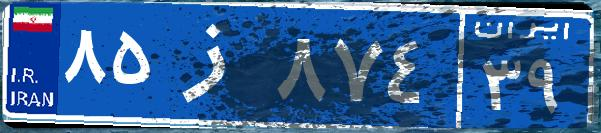3: (475, 38, 525, 113)
4: (385, 28, 445, 110)
5: (110, 28, 158, 105)
7: (330, 28, 385, 110)
8: (273, 28, 330, 110), (57, 26, 110, 107)
9: (525, 38, 570, 115)
ز: (158, 15, 273, 115)
